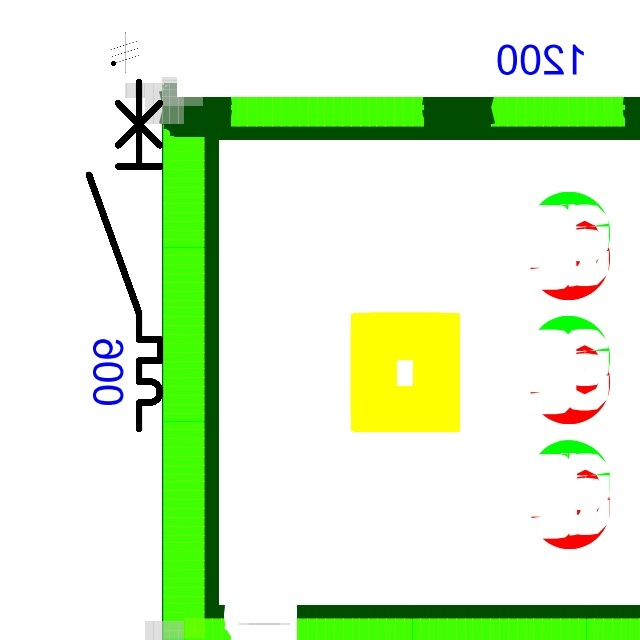interruptor_termomagnetico: (80, 73, 169, 438)
